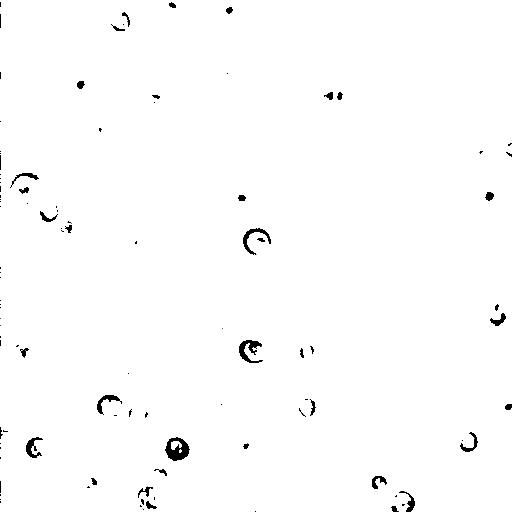micro-algae: (362, 38, 444, 119), (12, 70, 88, 144), (65, 413, 136, 484), (364, 458, 440, 512), (7, 120, 70, 182), (13, 356, 74, 417), (110, 377, 164, 430), (151, 321, 202, 371), (2, 474, 65, 512), (43, 1, 119, 31), (177, 347, 223, 392), (480, 63, 512, 116), (468, 177, 507, 217), (5, 168, 44, 207), (22, 179, 60, 218), (312, 76, 353, 112), (74, 116, 115, 149), (1, 16, 28, 66), (200, 395, 235, 430), (116, 361, 149, 395), (227, 1, 276, 23), (207, 61, 239, 94), (64, 69, 98, 100), (477, 290, 508, 323), (242, 226, 273, 257), (138, 485, 170, 512), (238, 339, 269, 365), (470, 142, 498, 170), (165, 437, 192, 465), (121, 223, 146, 251), (234, 429, 259, 457), (97, 394, 125, 418), (219, 0, 243, 25), (25, 437, 51, 460), (13, 340, 35, 367), (109, 9, 132, 33), (267, 90, 289, 113), (39, 200, 61, 223), (128, 403, 150, 426), (371, 472, 391, 497), (161, 0, 192, 16), (459, 432, 480, 455), (299, 396, 319, 419), (493, 394, 512, 418), (60, 217, 80, 237), (490, 309, 508, 330), (299, 340, 317, 361), (0, 427, 15, 450), (241, 500, 269, 512), (152, 466, 171, 483), (82, 477, 100, 492), (234, 190, 250, 206), (1, 0, 11, 15), (505, 141, 512, 158)
